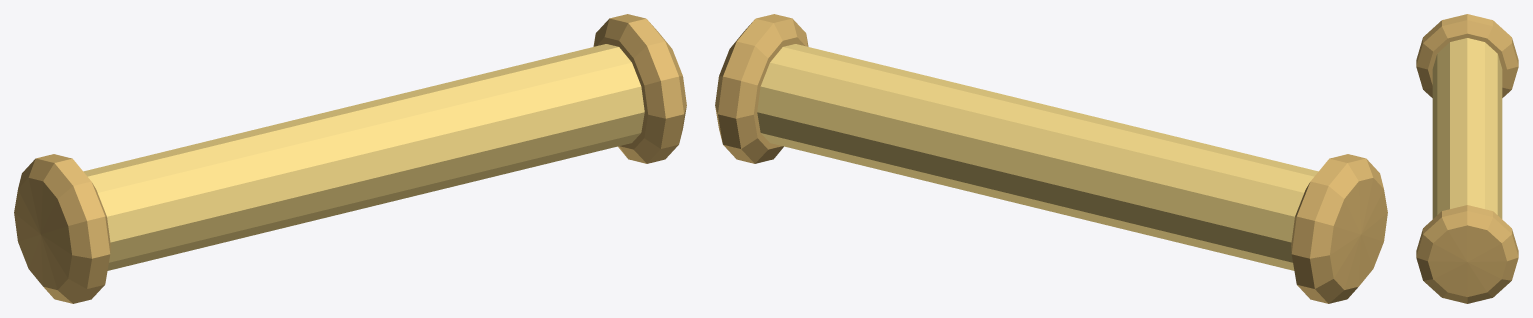
The model's file is roller_celestia.glb.
3 renders of one model, left to right at view 1: azimuth 30°, elevation 25°; view 2: azimuth 150°, elevation 25°; view 3: azimuth 270°, elevation 25°, orthographic. The views are drawn at different scales.
Visible parts, largest first — view 1: celestia_roller; view 2: celestia_roller; view 3: celestia_roller.
Boxes of the visible parts, left/top/right/bottom form: celestia_roller: left=14, top=14, right=686, bottom=303; celestia_roller: left=715, top=14, right=1387, bottom=303; celestia_roller: left=1416, top=14, right=1518, bottom=303.
Size of the model in its own units: 0.272 by 0.0572 by 0.0572.
